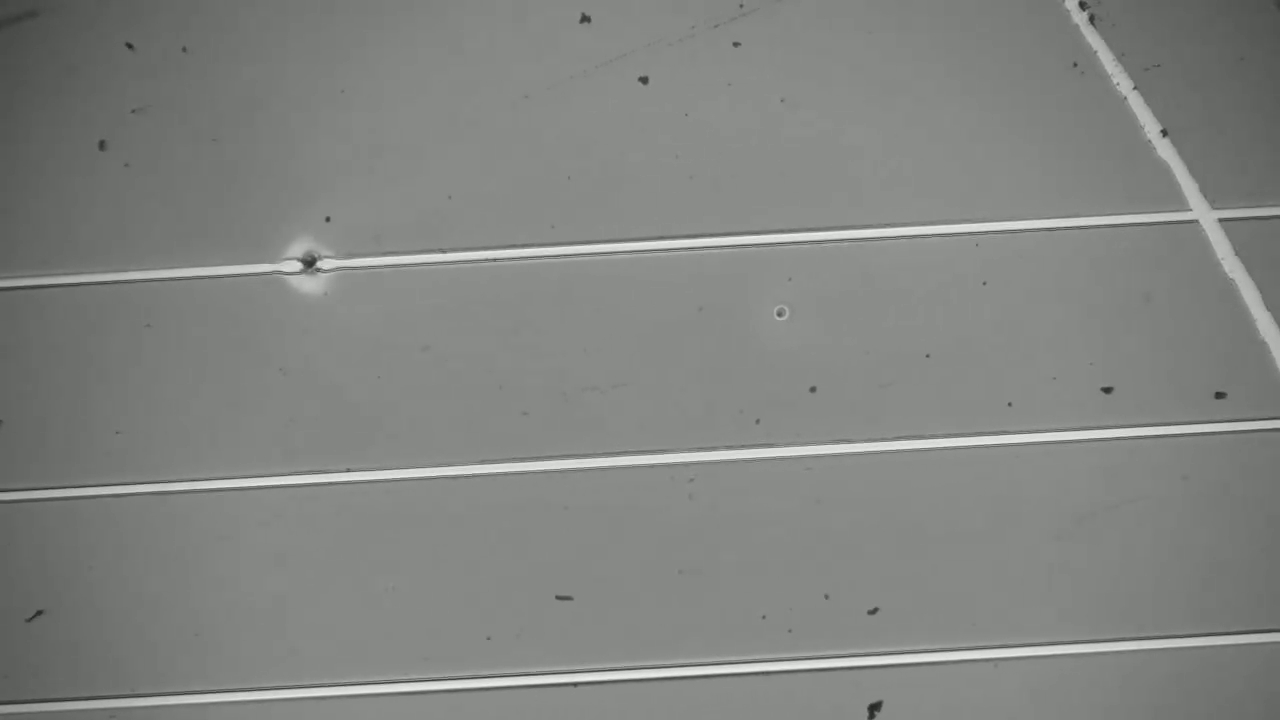stains_enbedded: (277, 238, 336, 290)
